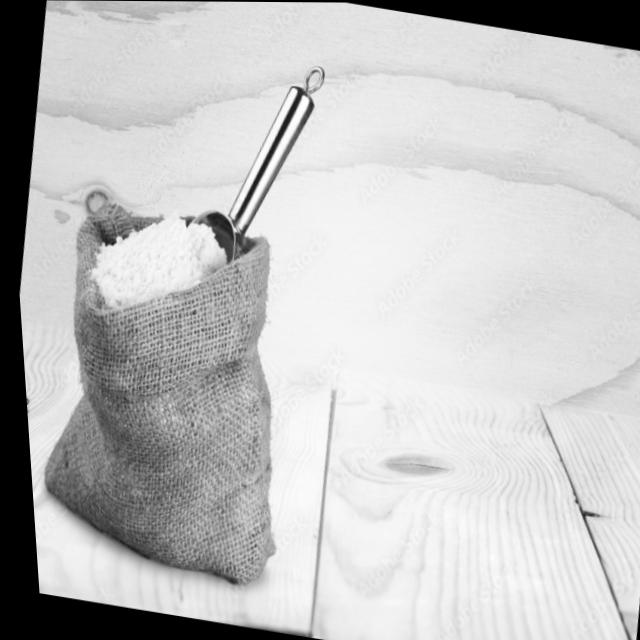sack: (12, 195, 319, 588)
